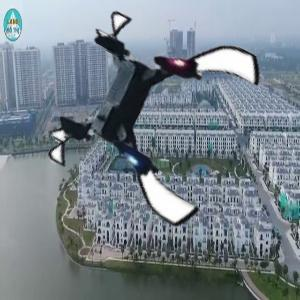drone: (60, 14, 255, 209)
